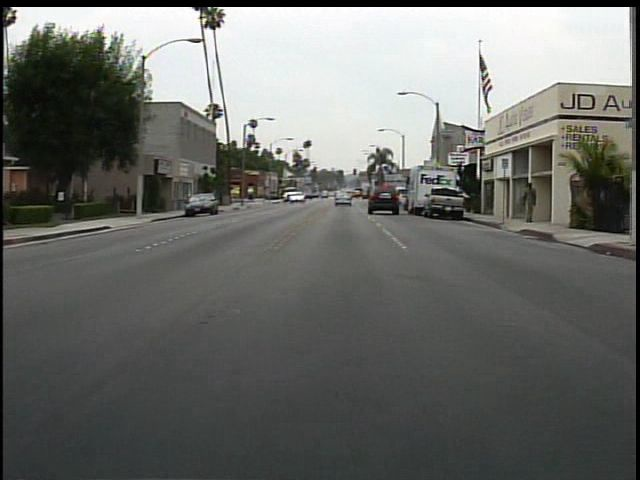person: (519, 181, 541, 226)
